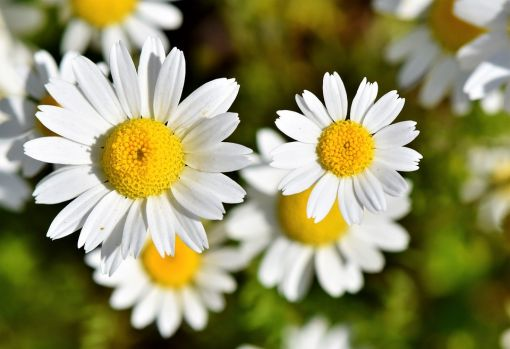papatya: (38, 38, 255, 255)
